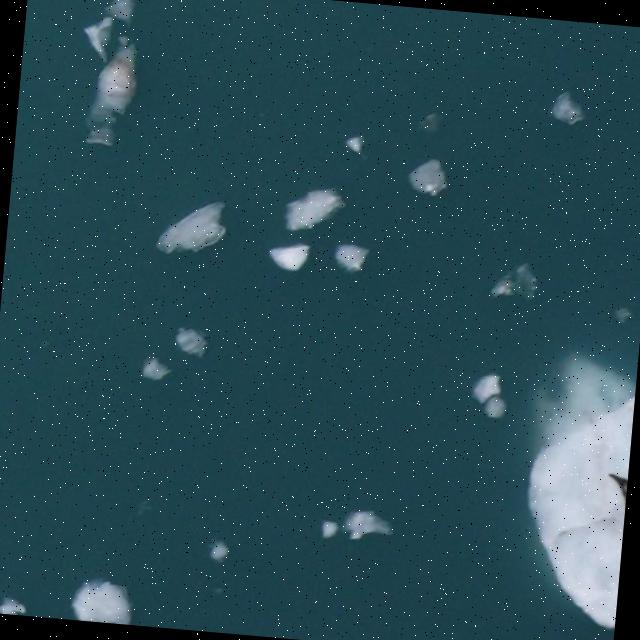seal: (606, 470, 633, 495)
